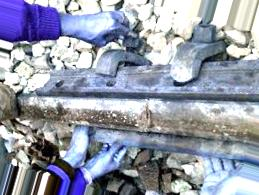tracks_fault: (50, 66, 129, 108)
